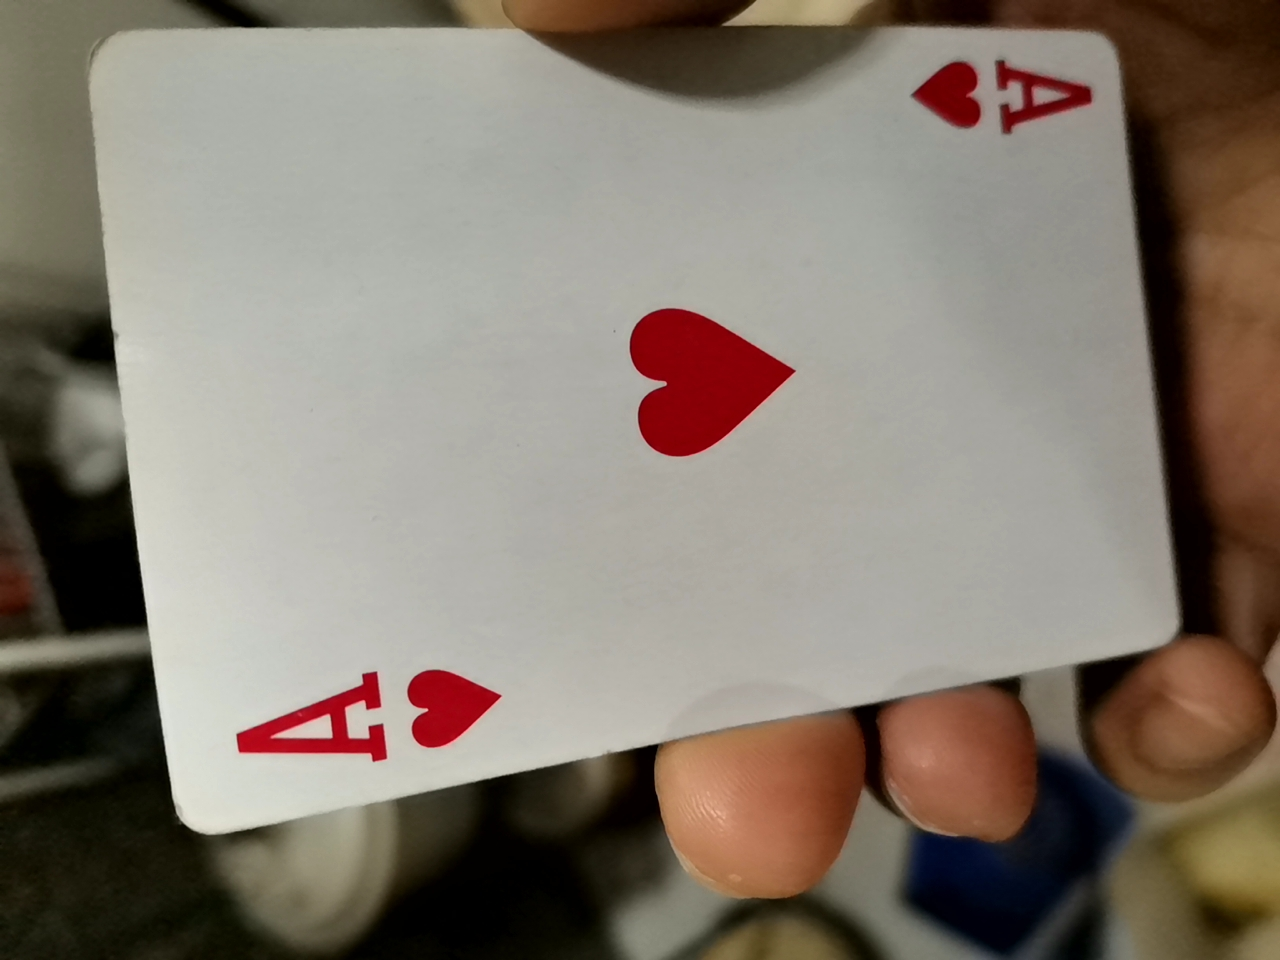hx a: (94, 16, 1269, 869)
